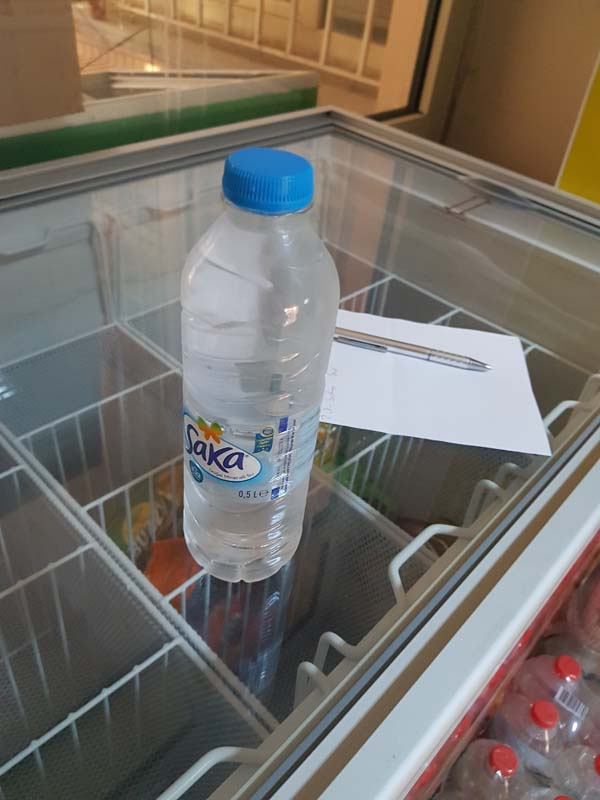saka500mlsu: (178, 141, 347, 585)
